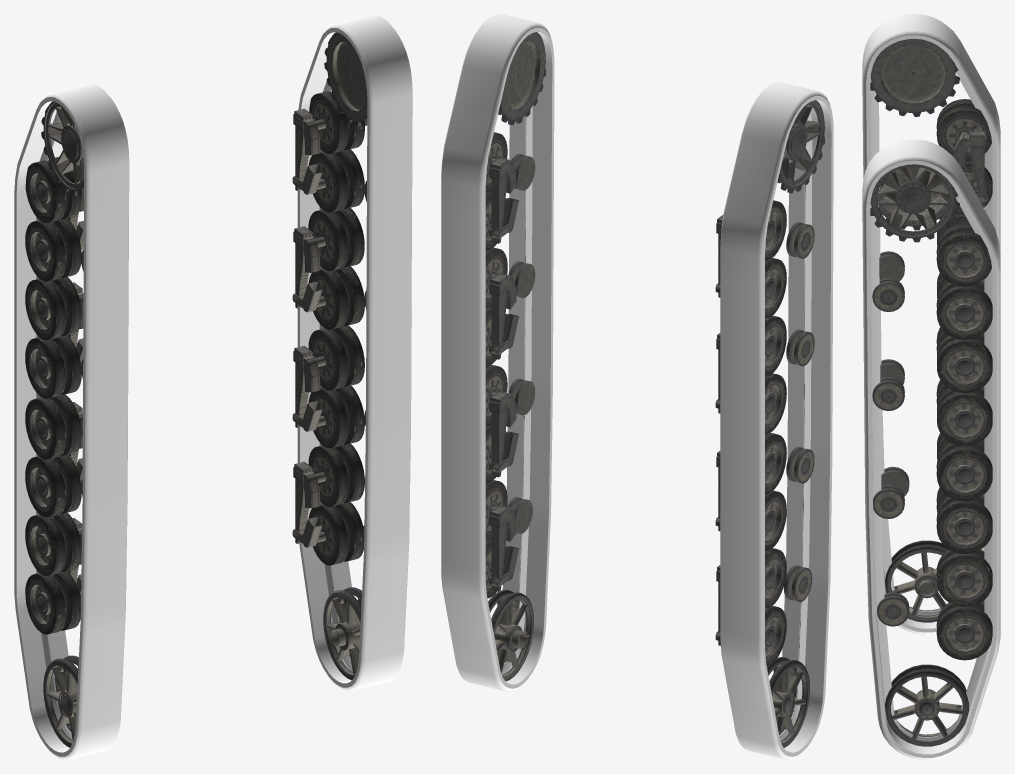
Rendered from Chassis.glb.
3 views of the same model, side by side, from view 1: azimuth 30°, elevation 25°; view 2: azimuth 150°, elevation 25°; view 3: azimuth 270°, elevation 25° (orthographic). The views are drawn at different scales.
Parts seen in each view (by area): view 1: set_4_group_0, set_5_group_0, set_3_group_0, set_1_group_0, set_0_group_0, set_2_group_0; view 2: set_4_group_0, set_5_group_0, set_3_group_0, set_1_group_0, set_0_group_0, set_2_group_0; view 3: set_1_group_0, set_5_group_0, set_3_group_0, set_4_group_0, set_2_group_0.
Part boxes in pixels (<box>): set_4_group_0: <box>14,83,129,759</box>; set_5_group_0: <box>297,14,412,690</box>; set_3_group_0: <box>25,101,83,747</box>; set_1_group_0: <box>292,32,367,680</box>; set_0_group_0: <box>292,108,326,431</box>; set_2_group_0: <box>68,194,83,483</box>; set_4_group_0: <box>720,82,833,759</box>; set_5_group_0: <box>441,14,554,691</box>; set_3_group_0: <box>715,100,824,747</box>; set_1_group_0: <box>485,32,545,681</box>; set_0_group_0: <box>489,157,518,477</box>; set_2_group_0: <box>715,215,723,531</box>; set_1_group_0: <box>870,164,992,746</box>; set_5_group_0: <box>862,139,1000,759</box>; set_3_group_0: <box>870,39,992,622</box>; set_4_group_0: <box>862,14,1000,634</box>; set_2_group_0: <box>954,131,987,206</box>.
Size of the model in its own units: 2.87 by 5.59 by 1.16.
6 materials, 4 textured.
